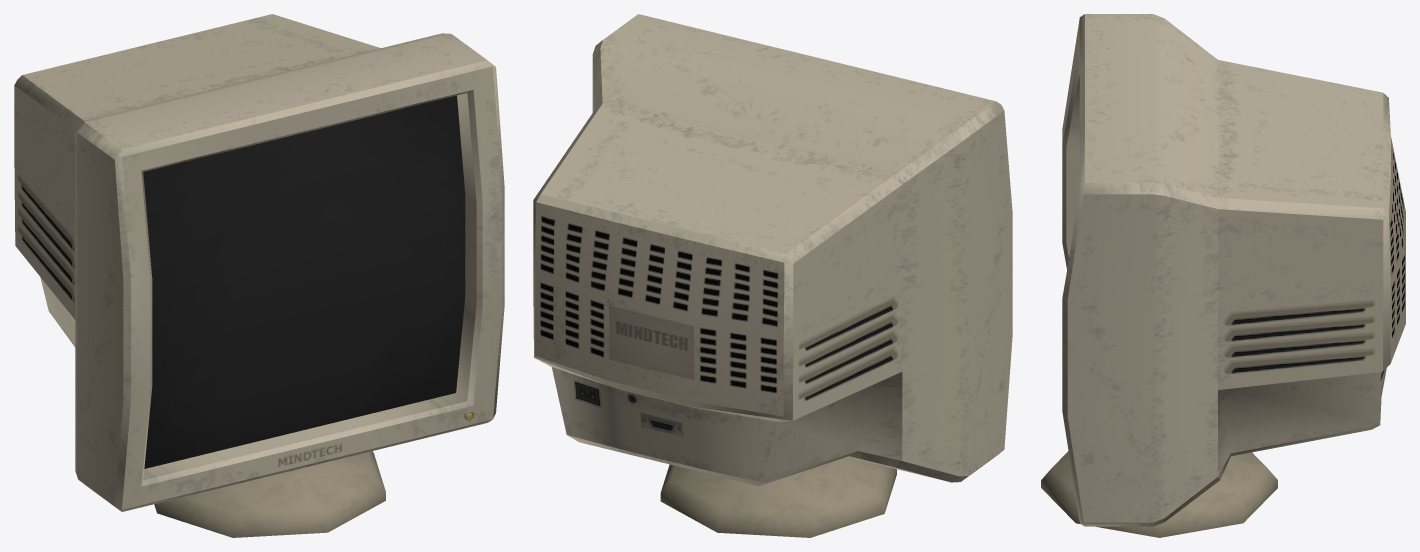
File: Monitor.fbx
3 renders of one model, left to right at view 1: azimuth 30°, elevation 25°; view 2: azimuth 150°, elevation 25°; view 3: azimuth 270°, elevation 25°, orthographic. The views are drawn at different scales.
Visible parts, largest first — view 1: Monitor; view 2: Monitor; view 3: Monitor.
Boxes of the visible parts, box(x1,y1,x2,y2) form: Monitor: box(14, 14, 504, 537); Monitor: box(533, 14, 1012, 537); Monitor: box(1041, 14, 1405, 537).
Size of the model in its own units: 44 by 45.32 by 38.47.
